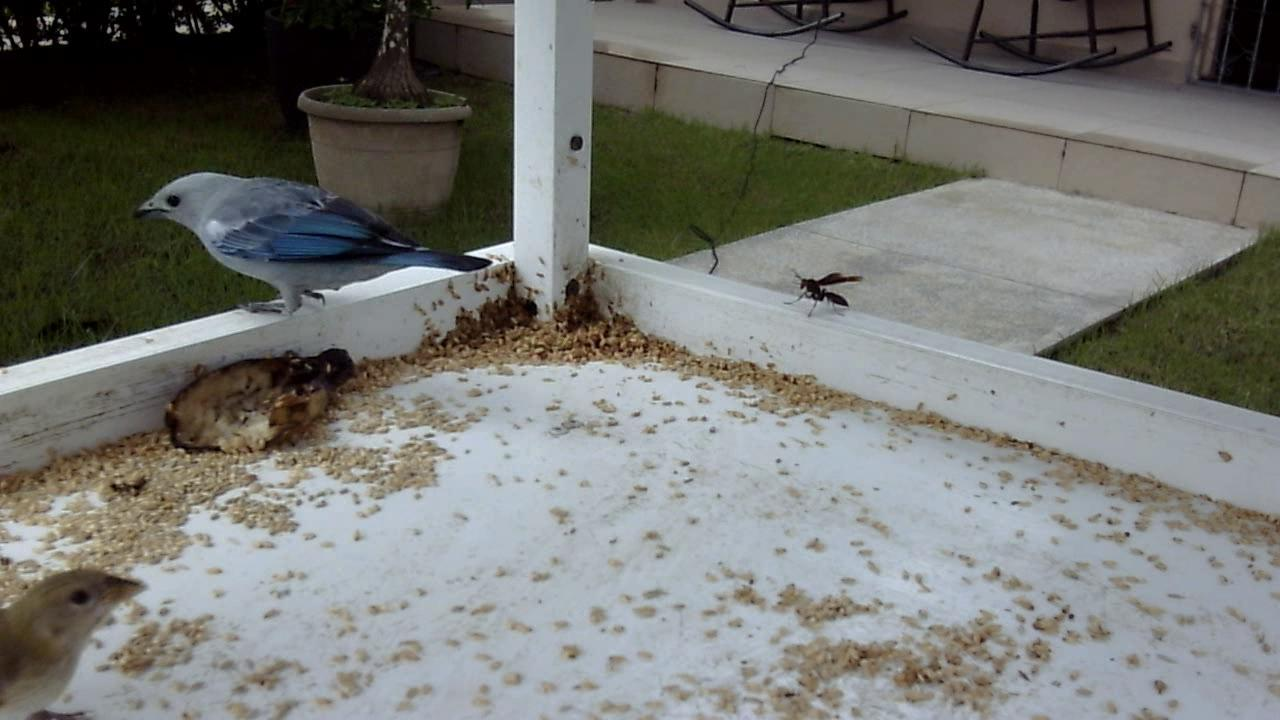canario_do_amazonas: (1, 562, 146, 718)
sanhaco_da_amazonia: (138, 163, 490, 334)
